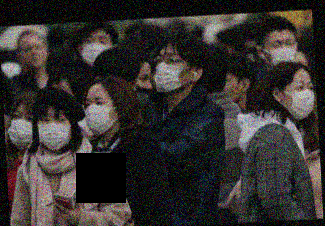with_mask: (36, 112, 74, 151), (7, 108, 38, 153), (83, 95, 117, 136), (152, 51, 184, 92), (287, 79, 317, 121), (80, 34, 114, 67), (268, 37, 298, 67)
without_mask: (19, 42, 49, 69)
